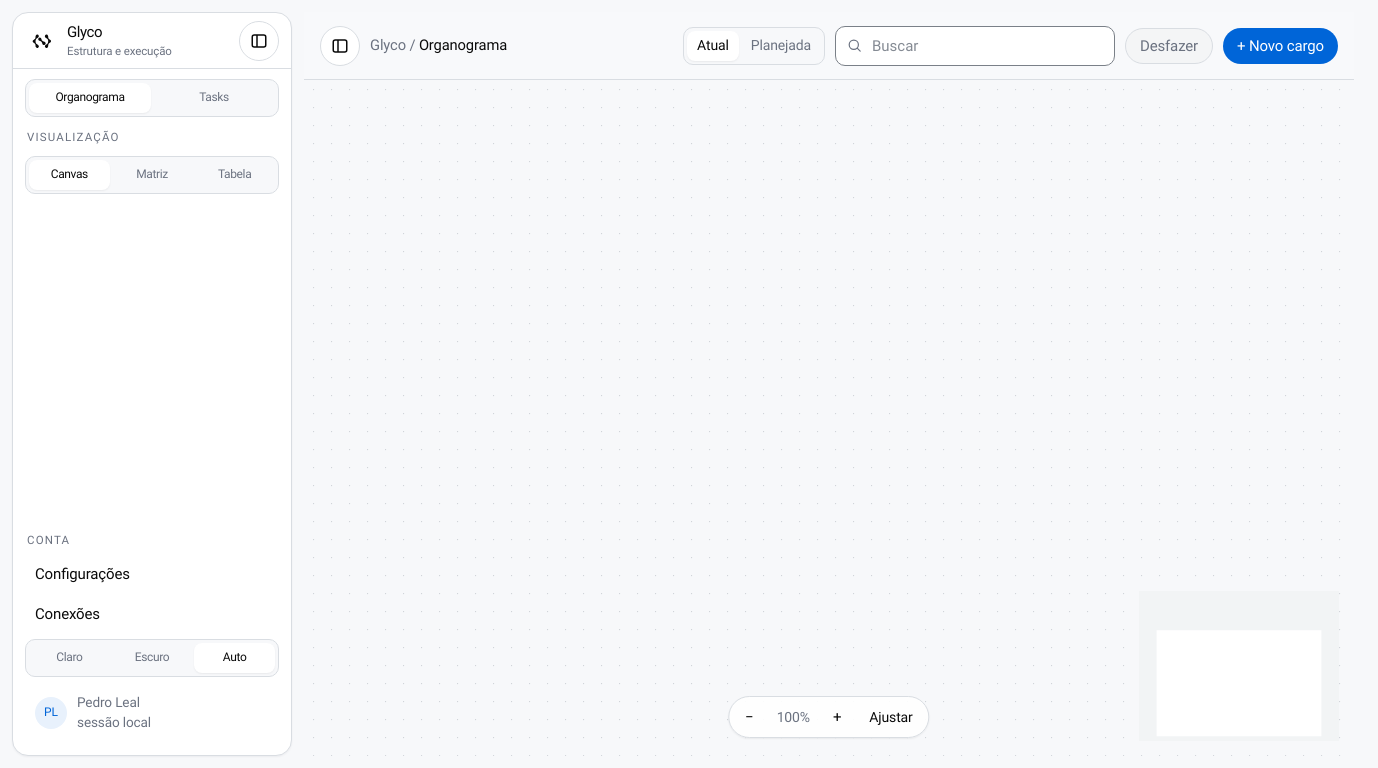
Test: ambientes › abre Organograma dentro de Tasks com Canvas
Click the button "Tasks": (214, 98) [153,83,275,113]
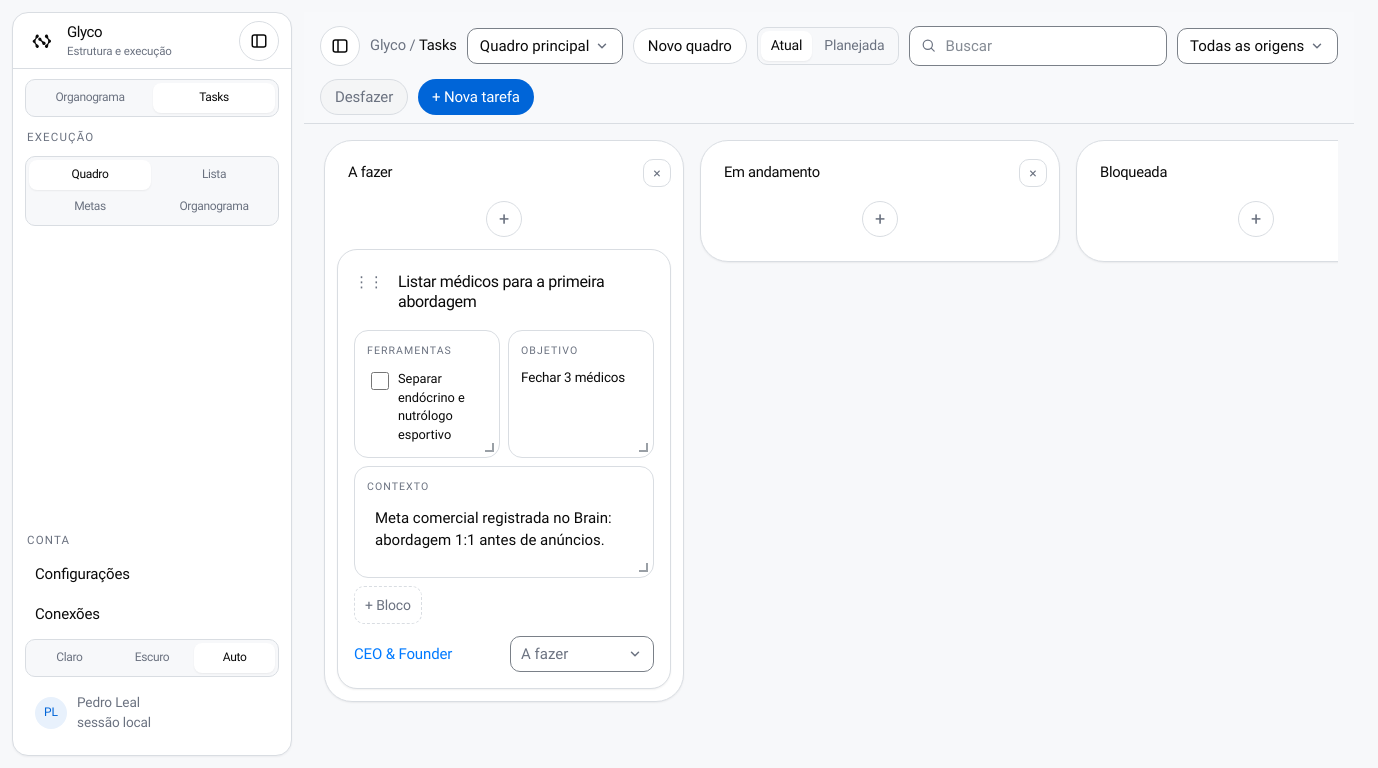
Click the 2nd button "Organograma": (214, 207) [153,192,275,222]
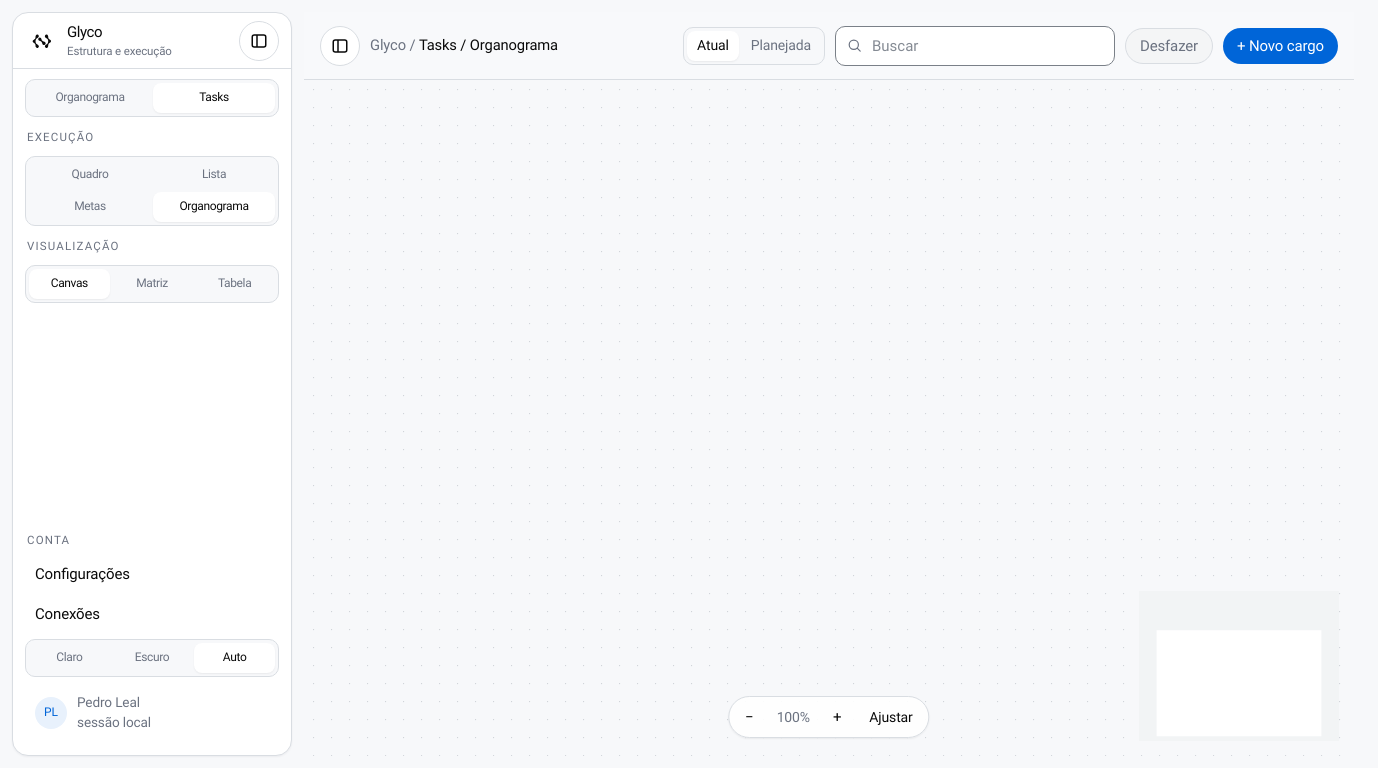
Expected: the text "Tasks / Organograma" is shown, [419,36,558,54]
Expected: the element named "Cargos no organograma" is shown
Expected: the element named "Visualização do organograma em tasks" is shown, [25,265,279,303]
